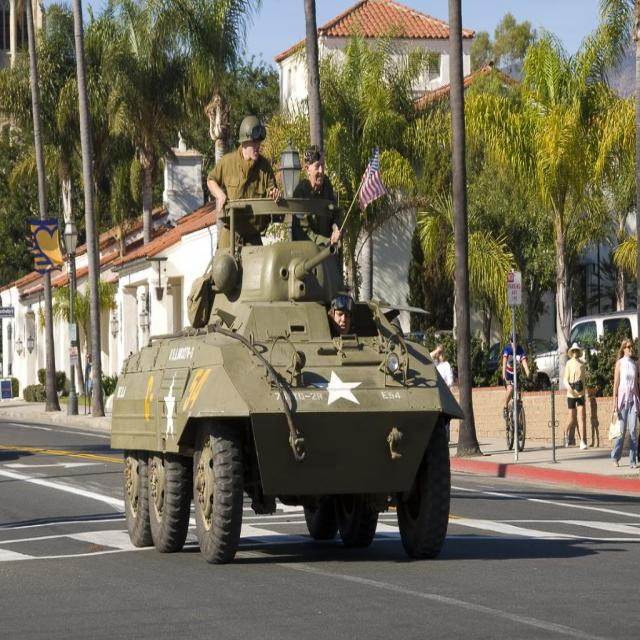tank: (109, 148, 468, 562)
